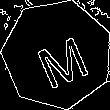M_NW: (26, 22, 89, 86)
